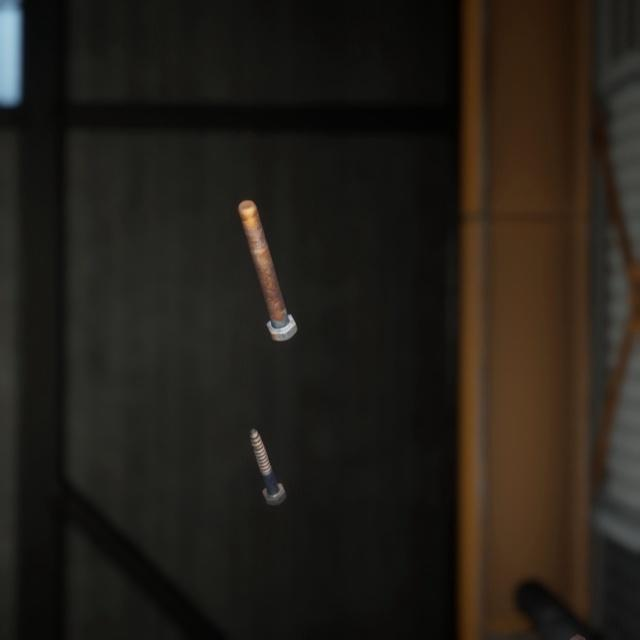bolt: (233, 178, 301, 328), (245, 402, 291, 488), (513, 606, 596, 640)
